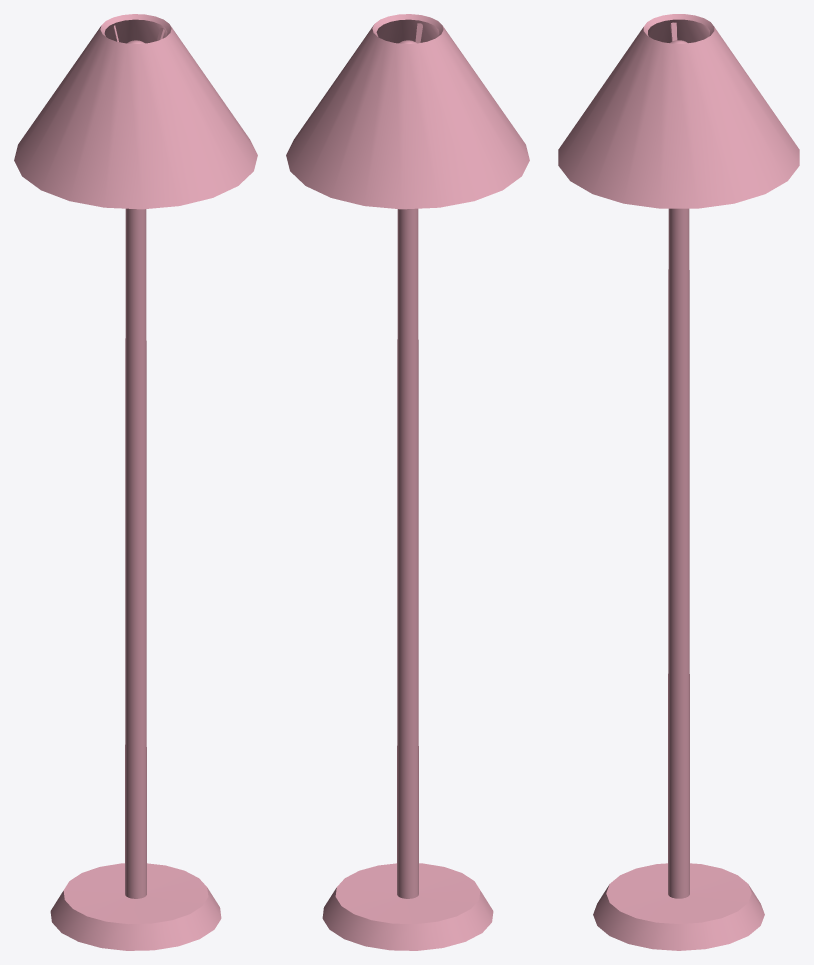
The model's file is FloorLamp.fbx.
3 views of the same model, side by side, from view 1: azimuth 30°, elevation 25°; view 2: azimuth 150°, elevation 25°; view 3: azimuth 270°, elevation 25° (orthographic).
Visible parts, largest first — view 1: FloorLamp; view 2: FloorLamp; view 3: FloorLamp.
Part boxes in pixels (x1=…): FloorLamp: x1=14, y1=14, x2=257, y2=950; FloorLamp: x1=286, y1=14, x2=529, y2=950; FloorLamp: x1=558, y1=14, x2=799, y2=950.
Bounding box in the file's own units: 44.71 × 181 × 44.71.
